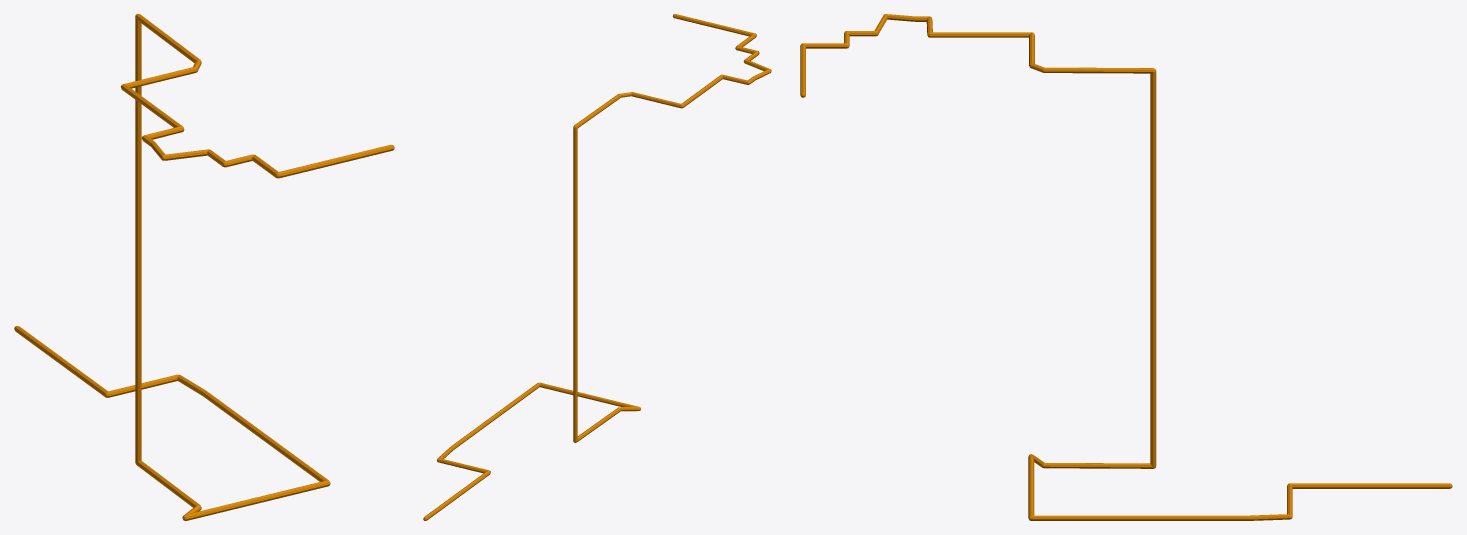
3 renders of one model, left to right at view 1: azimuth 30°, elevation 25°; view 2: azimuth 150°, elevation 25°; view 3: azimuth 270°, elevation 25°, orthographic. The views are drawn at different scales.
Size of the model in its own units: 885 by 1520 by 2244.
